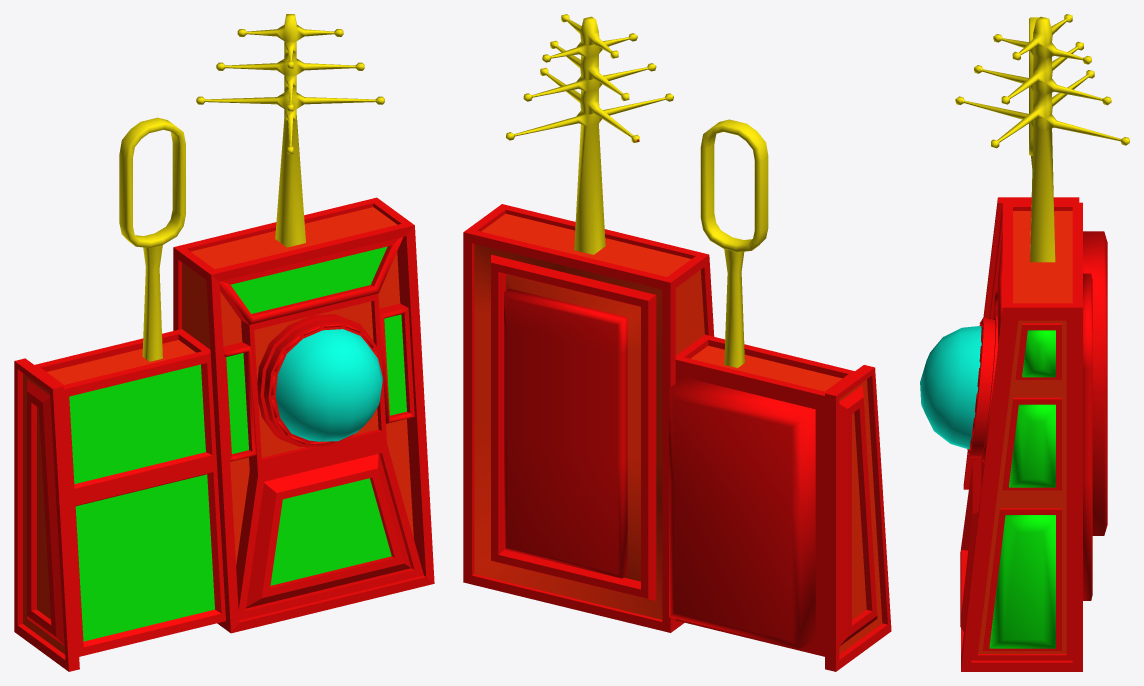
The model's file is Comms Device.fbx.
3 views of the same model, side by side, from view 1: azimuth 30°, elevation 25°; view 2: azimuth 150°, elevation 25°; view 3: azimuth 270°, elevation 25° (orthographic). The views are drawn at different scales.
Parts seen in each view (by area): view 1: CommsDevice; view 2: CommsDevice; view 3: CommsDevice.
Part boxes in pixels (box(x1,y1,x2,y2)): CommsDevice: box(14, 14, 434, 671); CommsDevice: box(463, 14, 891, 671); CommsDevice: box(920, 14, 1129, 671).
Bounding box in the file's own units: 742 × 1079 × 343.
